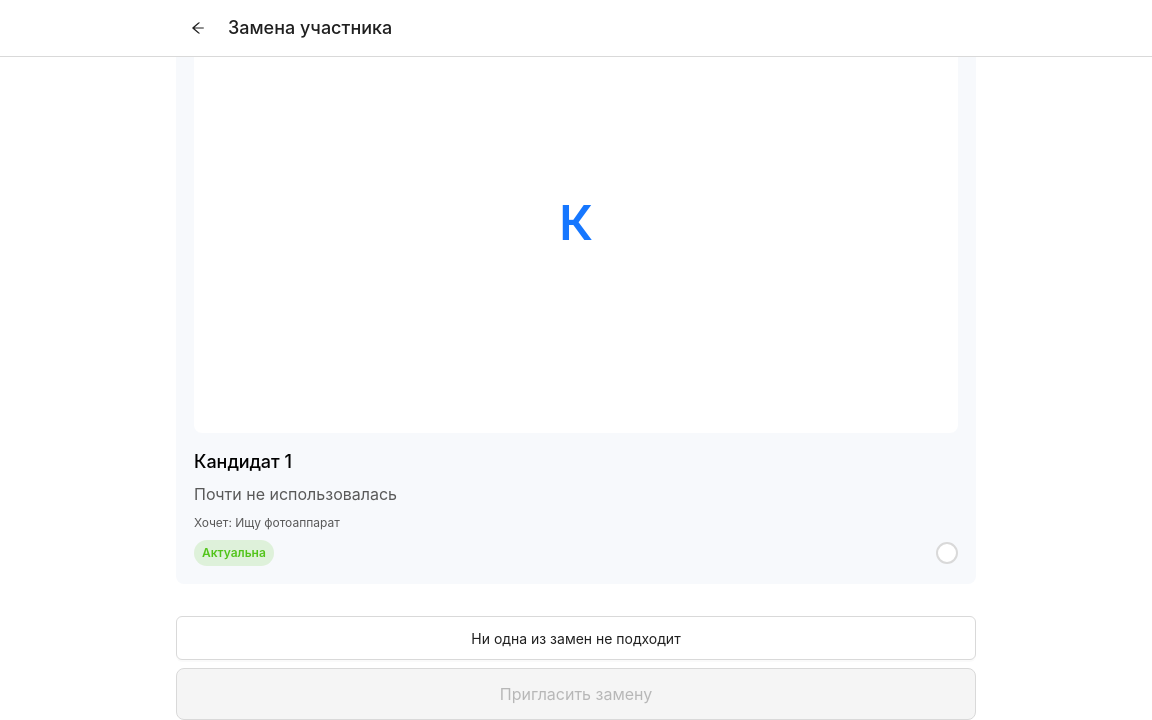
Test case: ChainReplacementPage › shows the waiting screen right after the invitation is accepted by the server
The width and height of the screenshot is (1152, 720).
(page scrolled)
Click the radio button: (947, 553) x1=936 y1=542 x2=958 y2=564
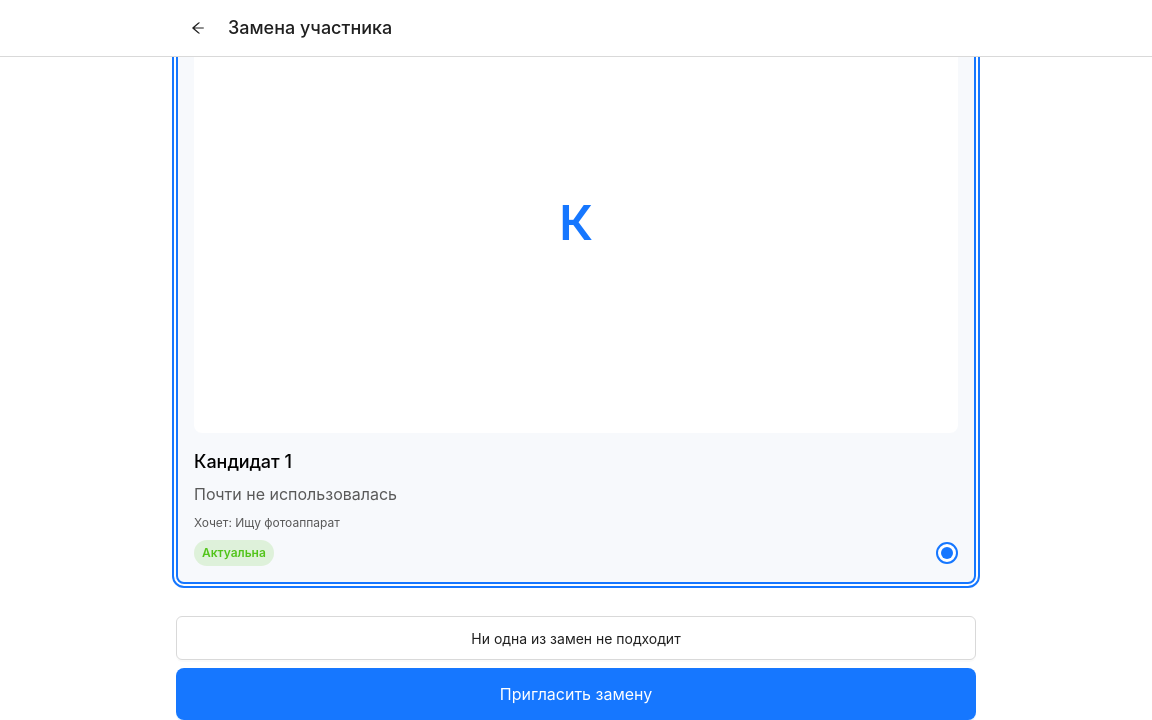
Click the button "Пригласить замену": (576, 694) x1=176 y1=668 x2=976 y2=719
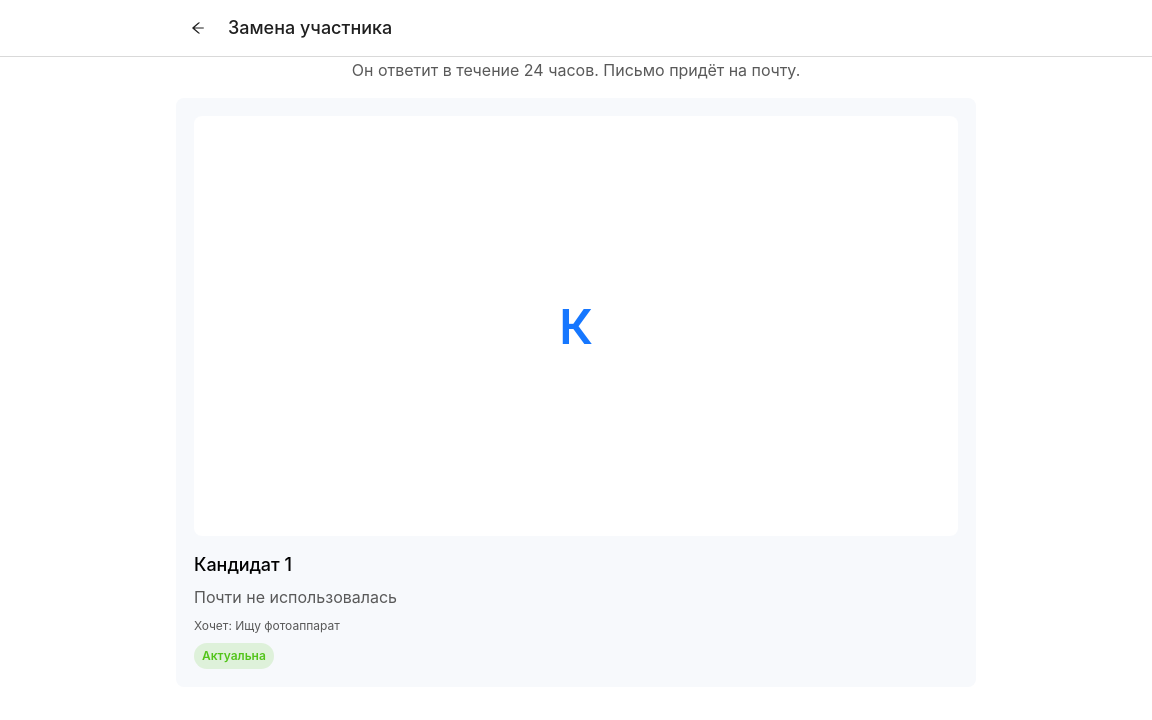
Expected: the text "Кандидат 1" is shown, x1=194 y1=554 x2=292 y2=575
Now the button "Пригласить замену" is gone
